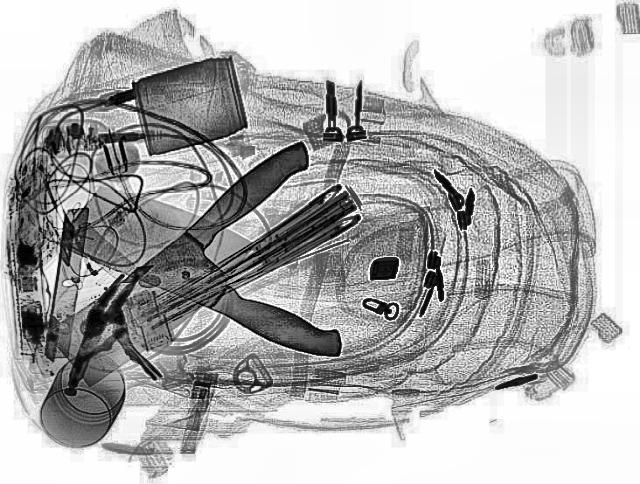Knife: (11, 137, 372, 386), (46, 174, 388, 366)
